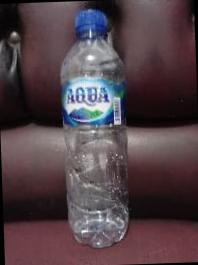Plastik: (61, 8, 130, 247)
